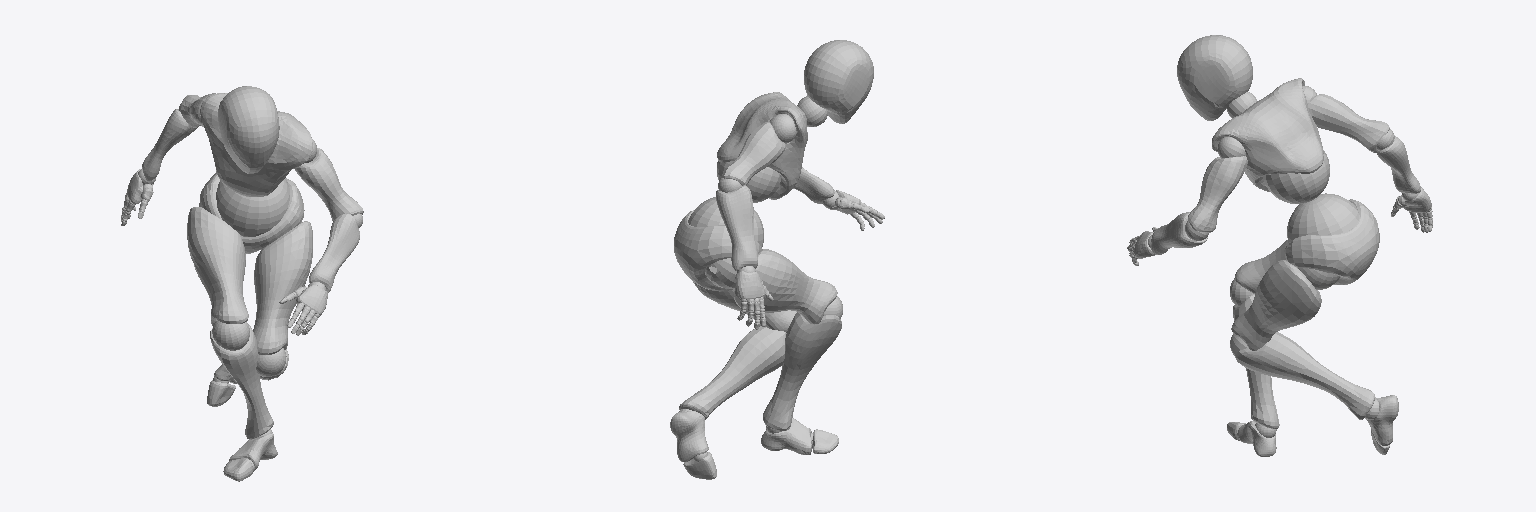
3 renders of one model, left to right at view 1: azimuth 30°, elevation 25°; view 2: azimuth 150°, elevation 25°; view 3: azimuth 270°, elevation 25°, orthographic.
Parts seen in each view (by area): view 1: Beta_Surface, Beta_Joints; view 2: Beta_Surface, Beta_Joints; view 3: Beta_Surface, Beta_Joints.
Part boxes in pixels (x1,y1,x2,y2): Beta_Surface: (121,86,363,481); Beta_Joints: (121,104,362,471); Beta_Surface: (670,40,884,479); Beta_Joints: (679,96,879,461); Beta_Surface: (1127,35,1432,456); Beta_Joints: (1128,86,1432,439).
Bounding box in the file's own units: 0.4858 × 1.4 × 0.9765.